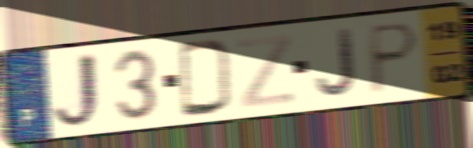3: (110, 46, 159, 124)
D: (176, 38, 237, 120)
J: (49, 50, 106, 132), (314, 26, 359, 99)
P: (368, 19, 422, 97)
Z: (236, 32, 296, 111)
